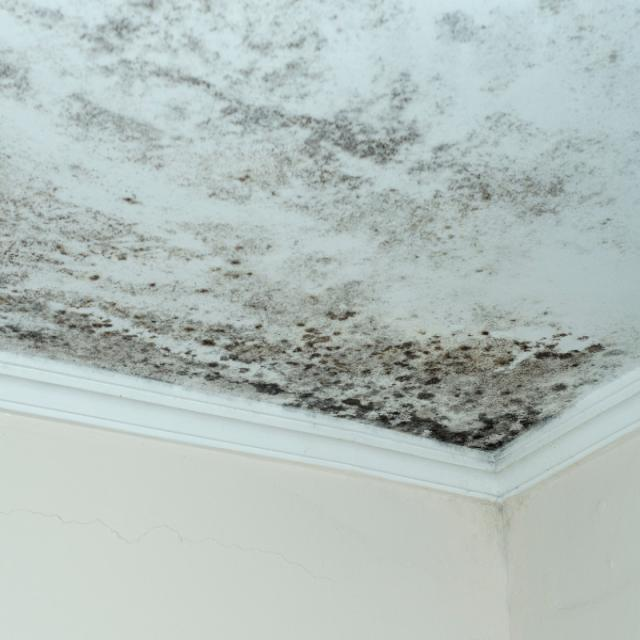stain_mould: (4, 160, 639, 448), (0, 5, 617, 278), (142, 1, 420, 96), (437, 12, 494, 47)
